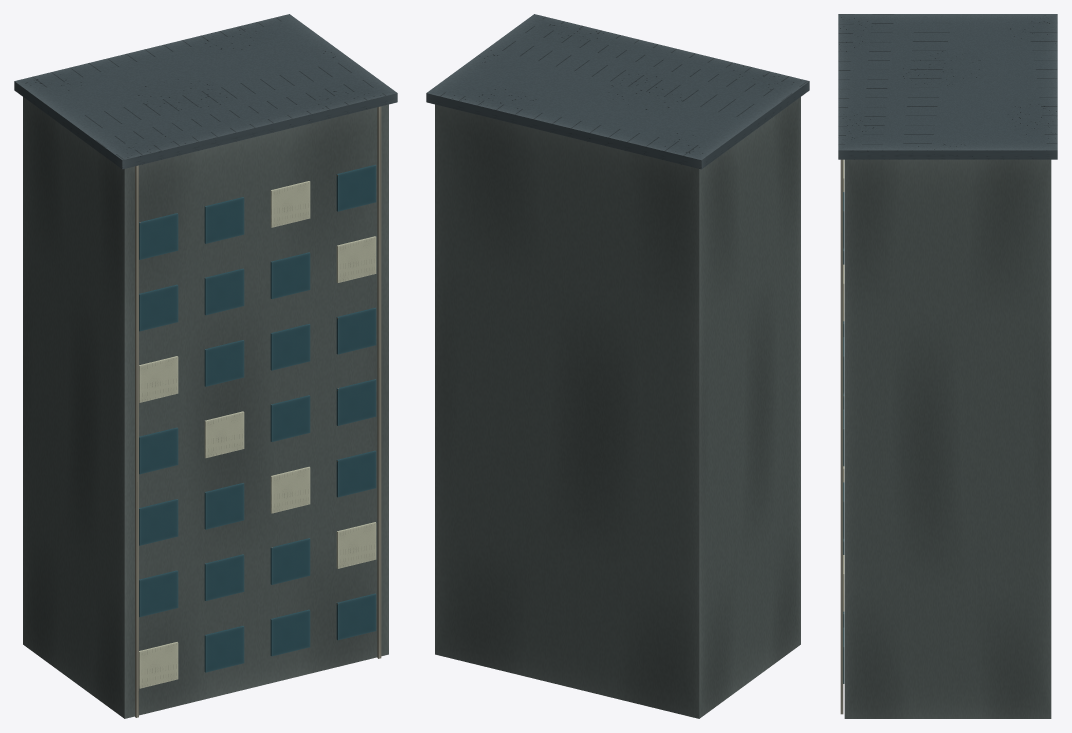
Rendered from skyline_block.fbx.
3 views of the same model, side by side, from view 1: azimuth 30°, elevation 25°; view 2: azimuth 150°, elevation 25°; view 3: azimuth 270°, elevation 25° (orthographic).
Parts seen in each view (by area): view 1: skyline_block__block, skyline_block__roof, skyline_block__edge.001, skyline_block__edge, skyline_block__window.002, skyline_block__window.003, skyline_block__window.011, skyline_block__window.021, skyline_block__window.010, skyline_block__window.013, skyline_block__window.019, skyline_block__window.025 (+20 smaller); view 2: skyline_block__block, skyline_block__roof; view 3: skyline_block__block, skyline_block__roof, skyline_block__edge.001.
Part boxes in pixels (<box>): skyline_block__block: <box>23,97,388,718</box>; skyline_block__roof: <box>14,14,397,169</box>; skyline_block__edge.001: <box>377,106,381,658</box>; skyline_block__edge: <box>135,165,138,717</box>; skyline_block__window.002: <box>270,609,310,656</box>; skyline_block__window.003: <box>336,593,376,640</box>; skyline_block__window.011: <box>336,450,376,497</box>; skyline_block__window.021: <box>204,268,244,315</box>; skyline_block__window.010: <box>270,466,310,513</box>; skyline_block__window.013: <box>204,411,244,458</box>; skyline_block__window.019: <box>336,307,376,354</box>; skyline_block__window.025: <box>204,197,244,243</box>; skyline_block__block: <box>435,97,800,718</box>; skyline_block__roof: <box>426,14,809,169</box>; skyline_block__block: <box>844,159,1051,718</box>; skyline_block__roof: <box>838,14,1057,159</box>; skyline_block__edge.001: <box>840,159,843,714</box>.
Bounding box in the file's own units: 1250 × 2440 × 850.
5 materials, 5 textured.
